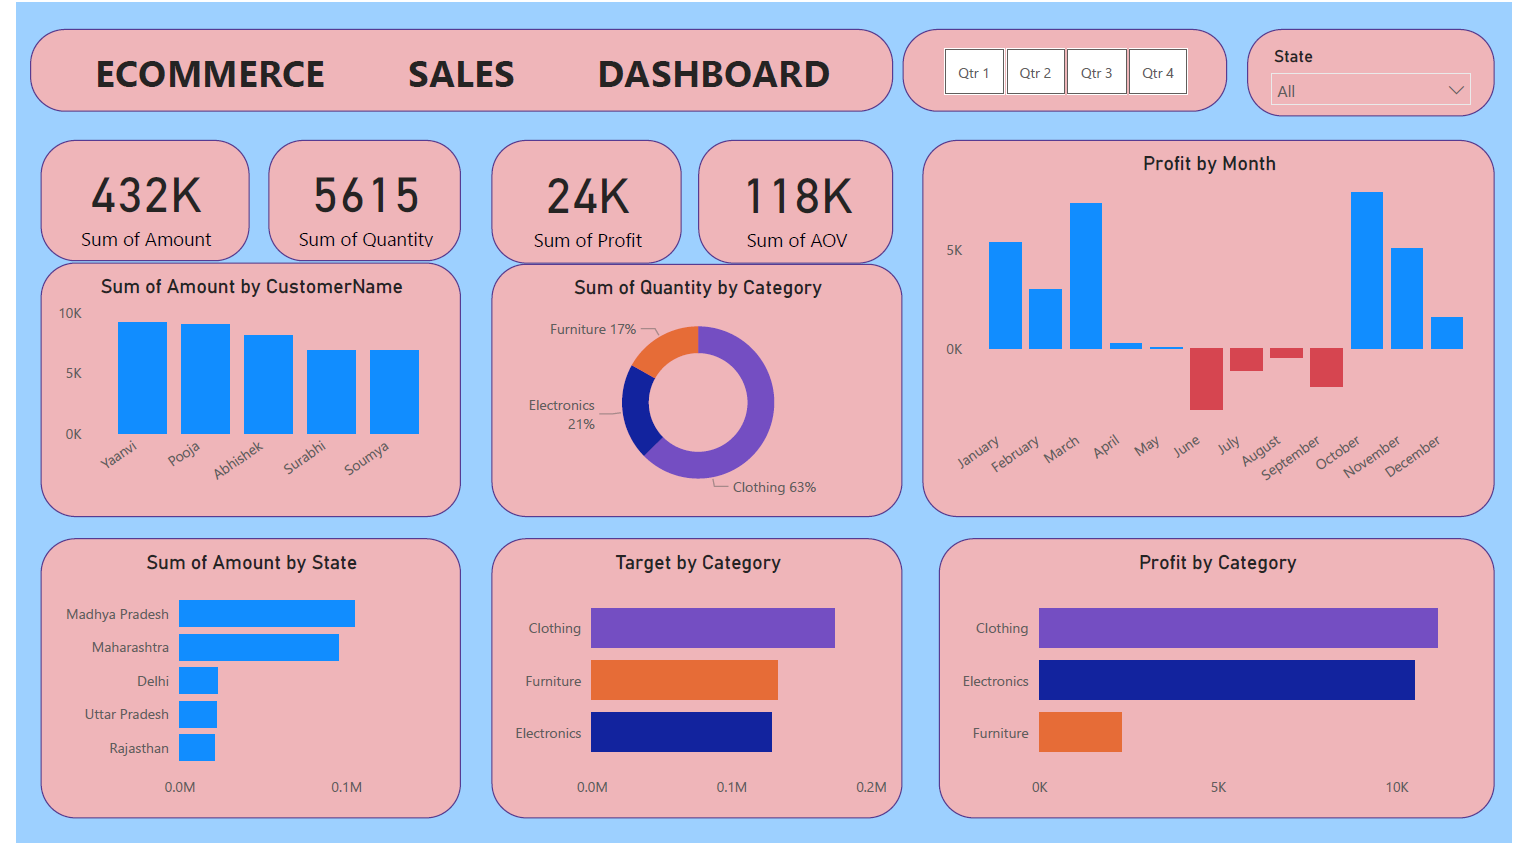

The dashboard page shown, as its layout file describes it:
{"tool":"powerbi","page":{"name":"Page 1","canvas":[1280,720],"ordinal":0},"visuals":[{"type":"textbox","box":[11.6,23.1,739.9,71.3],"z":0},{"type":"columnChart","title":" Profit by Month","fields":{"Category":["List of Orders.Order Date.Variation.Date Hierarchy.Month"],"Y":["Order Details.Profit"]},"box":[776.5,117.5,489.4,323.7],"z":1000},{"type":"barChart","title":" Profit by Category","fields":{"Category":["Order Details.Category"],"Y":["Order Details.Profit"]},"box":[790,458.6,475.9,240.8],"z":2000},{"type":"donutChart","fields":{"Category":["Order Details.Category"],"Y":["Order Details.Quantity"]},"box":[406.5,223.5,352.6,217.7],"z":3000},{"type":"clusteredBarChart","title":"Target by Category","fields":{"Category":["Sales target.Category"],"Y":["Sales target.Target"]},"box":[406.5,458.6,352.6,240.8],"z":4000},{"type":"card","fields":{"Values":["Order Details.Amount"]},"box":[21.2,117.5,179.2,104],"z":5000},{"type":"card","fields":{"Values":["Order Details.Quantity"]},"box":[215.8,117.5,165.7,104],"z":6000},{"type":"card","fields":{"Values":["Order Details.Profit"]},"box":[406.5,117.5,163.8,106],"z":7000},{"type":"card","fields":{"Values":["Order Details.AOV"]},"box":[583.8,117.5,167.6,106],"z":8000},{"type":"barChart","title":"Sum of Amount by State","fields":{"Category":["List of Orders.State"],"Y":["Order Details.Amount"]},"box":[21.3,458.7,360,240],"z":9000},{"type":"columnChart","title":"Sum of Amount by CustomerName","fields":{"Category":["List of Orders.CustomerName"],"Y":["Order Details.Amount"]},"box":[21.3,222.6,360,218.7],"z":10000},{"type":"slicer","fields":{"Values":["List of Orders.State"]},"box":[1053.9,23.1,211.9,75.1],"z":11000},{"type":"slicer","fields":{"Values":["List of Orders.Order Date.Variation.Date Hierarchy.Quarter"]},"box":[759.1,23.1,277.5,71.3],"z":12000}]}

Visuals, with their boxes in screenshot pixels (x1, y1, x2, y2), scaled from the page's 1280x720 canvas onto the 1525x860 screenshot:
textbox: detection(14, 28, 895, 113)
" Profit by Month" columnChart: detection(925, 140, 1508, 527)
" Profit by Category" barChart: detection(941, 548, 1508, 835)
donutChart - Order Details.Category x Order Details.Quantity: detection(484, 267, 904, 527)
"Target by Category" clusteredBarChart: detection(484, 548, 904, 835)
card - Order Details.Amount: detection(25, 140, 239, 265)
card - Order Details.Quantity: detection(257, 140, 455, 265)
card - Order Details.Profit: detection(484, 140, 679, 267)
card - Order Details.AOV: detection(696, 140, 895, 267)
"Sum of Amount by State" barChart: detection(25, 548, 454, 835)
"Sum of Amount by CustomerName" columnChart: detection(25, 266, 454, 527)
slicer - List of Orders.State: detection(1256, 28, 1508, 117)
slicer - List of Orders.Order Date.Variation.Date Hierarchy.Quarter: detection(904, 28, 1235, 113)
